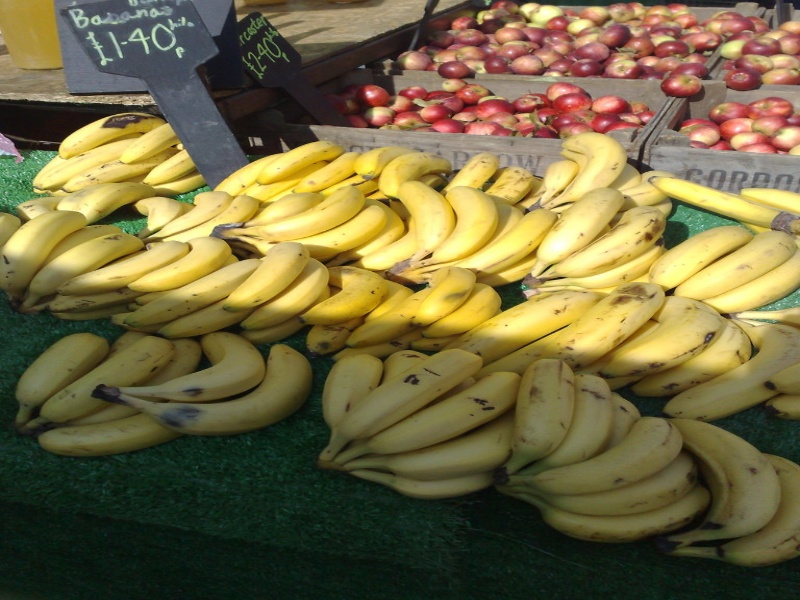banana: (522, 359, 708, 549), (321, 353, 510, 499), (92, 326, 315, 439), (519, 188, 665, 299)
